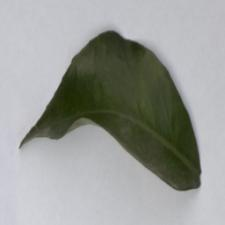Healthy: (25, 32, 205, 208)
